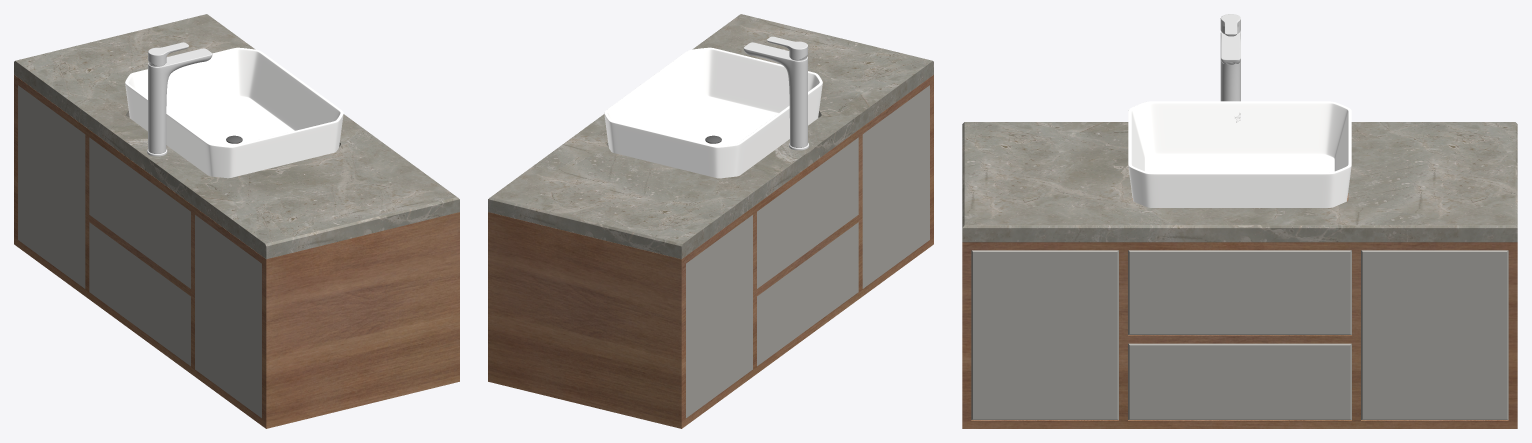
File: bath_sink.glb
3 renders of one model, left to right at view 1: azimuth 30°, elevation 25°; view 2: azimuth 150°, elevation 25°; view 3: azimuth 270°, elevation 25°, orthographic. The views are drawn at different scales.
Visible parts, largest first — view 1: sink; view 2: sink; view 3: sink.
Part boxes in pixels (x1,y1,x2,y2): sink: (14, 14, 459, 428); sink: (488, 14, 933, 428); sink: (962, 14, 1517, 428).
Size of the model in its own units: 0.55 by 0.7733 by 1.24.
6 materials, 2 textured.
